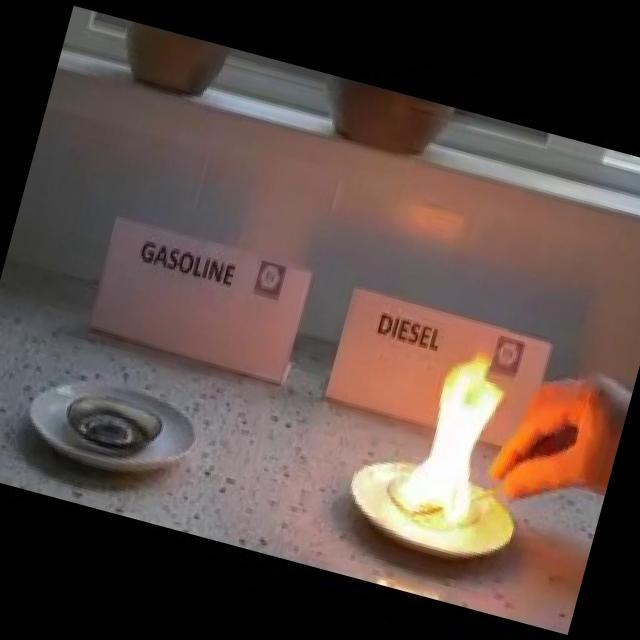Fire: (387, 330, 524, 536)
